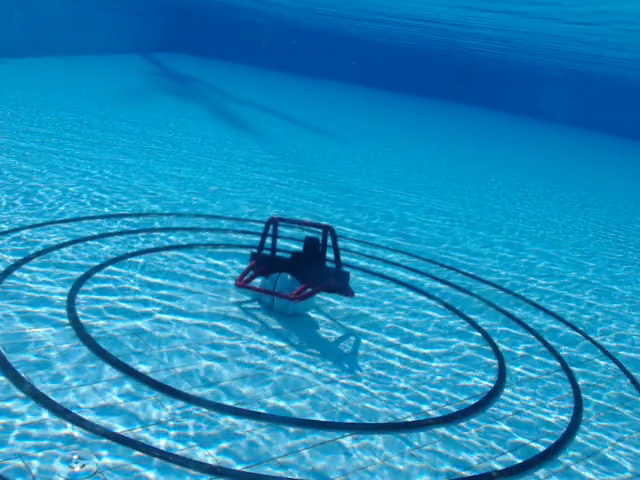submarine: (234, 215, 354, 303)
